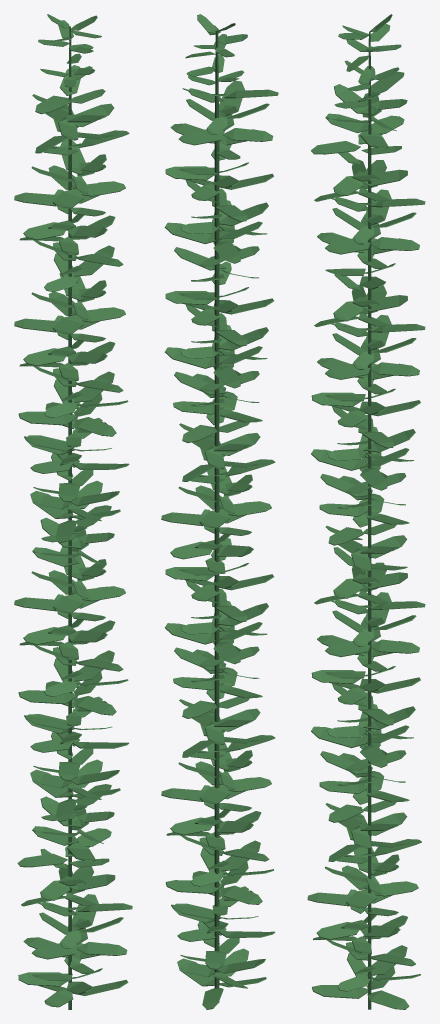
The model's file is Seaweed_009.glb.
3 views of the same model, side by side, from view 1: azimuth 90°, elevation 25°; view 2: azimuth 210°, elevation 25°; view 3: azimuth 270°, elevation 25° (orthographic).
Visible parts, largest first — view 1: Seaweed_009; view 2: Seaweed_009; view 3: Seaweed_009.
Part boxes in pixels (x1,y1,x2,y2): Seaweed_009: [14, 14, 132, 1009]; Seaweed_009: [161, 14, 278, 1009]; Seaweed_009: [307, 14, 425, 1009].
Size of the model in its own units: 1.03 by 9.85 by 1.06.
1 material, 1 textured.
